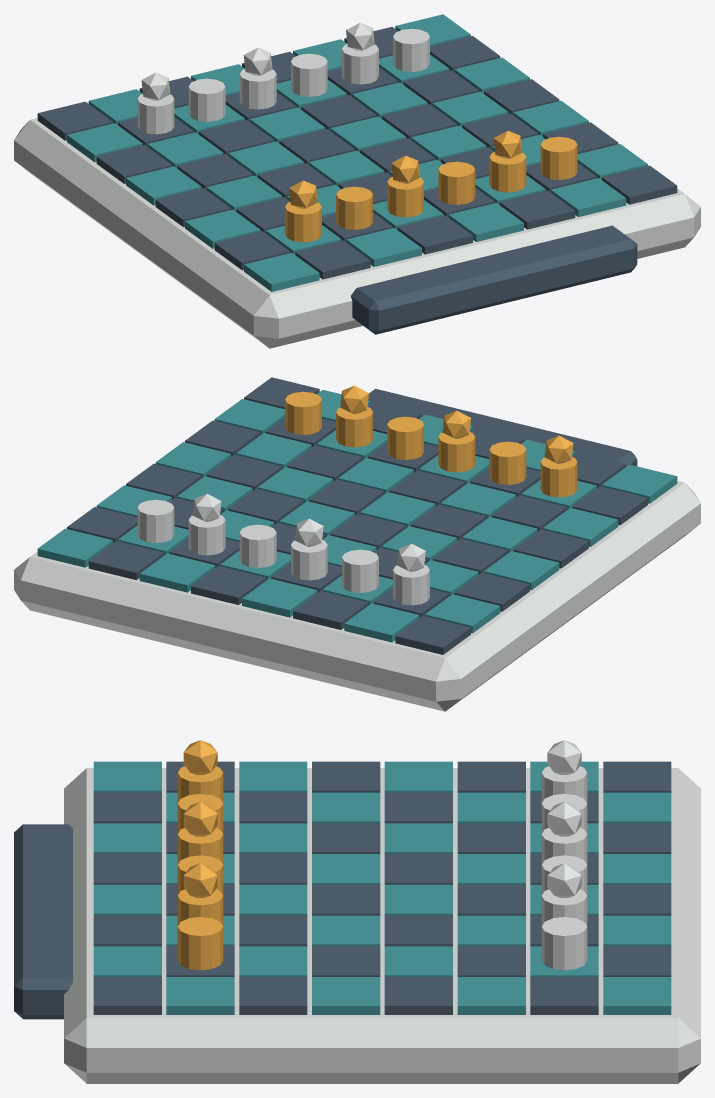
The picture shows the model from 3 angles, top to bottom: view 1: azimuth 30°, elevation 25°; view 2: azimuth 150°, elevation 25°; view 3: azimuth 270°, elevation 25°; orthographic projection. The views are drawn at different scales.
Visible parts, largest first — view 1: MI-077 Shared tactile strategy board batched; view 2: MI-077 Shared tactile strategy board batched; view 3: MI-077 Shared tactile strategy board batched.
Boxes of the visible parts, left/top/right/bottom form: MI-077 Shared tactile strategy board batched: left=14, top=14, right=700, bottom=348; MI-077 Shared tactile strategy board batched: left=14, top=377, right=700, bottom=711; MI-077 Shared tactile strategy board batched: left=14, top=740, right=700, bottom=1083.
Bounding box in the file's own units: 0.7 × 0.172 × 0.755.
